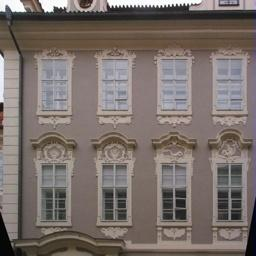building: (2, 0, 256, 256)
